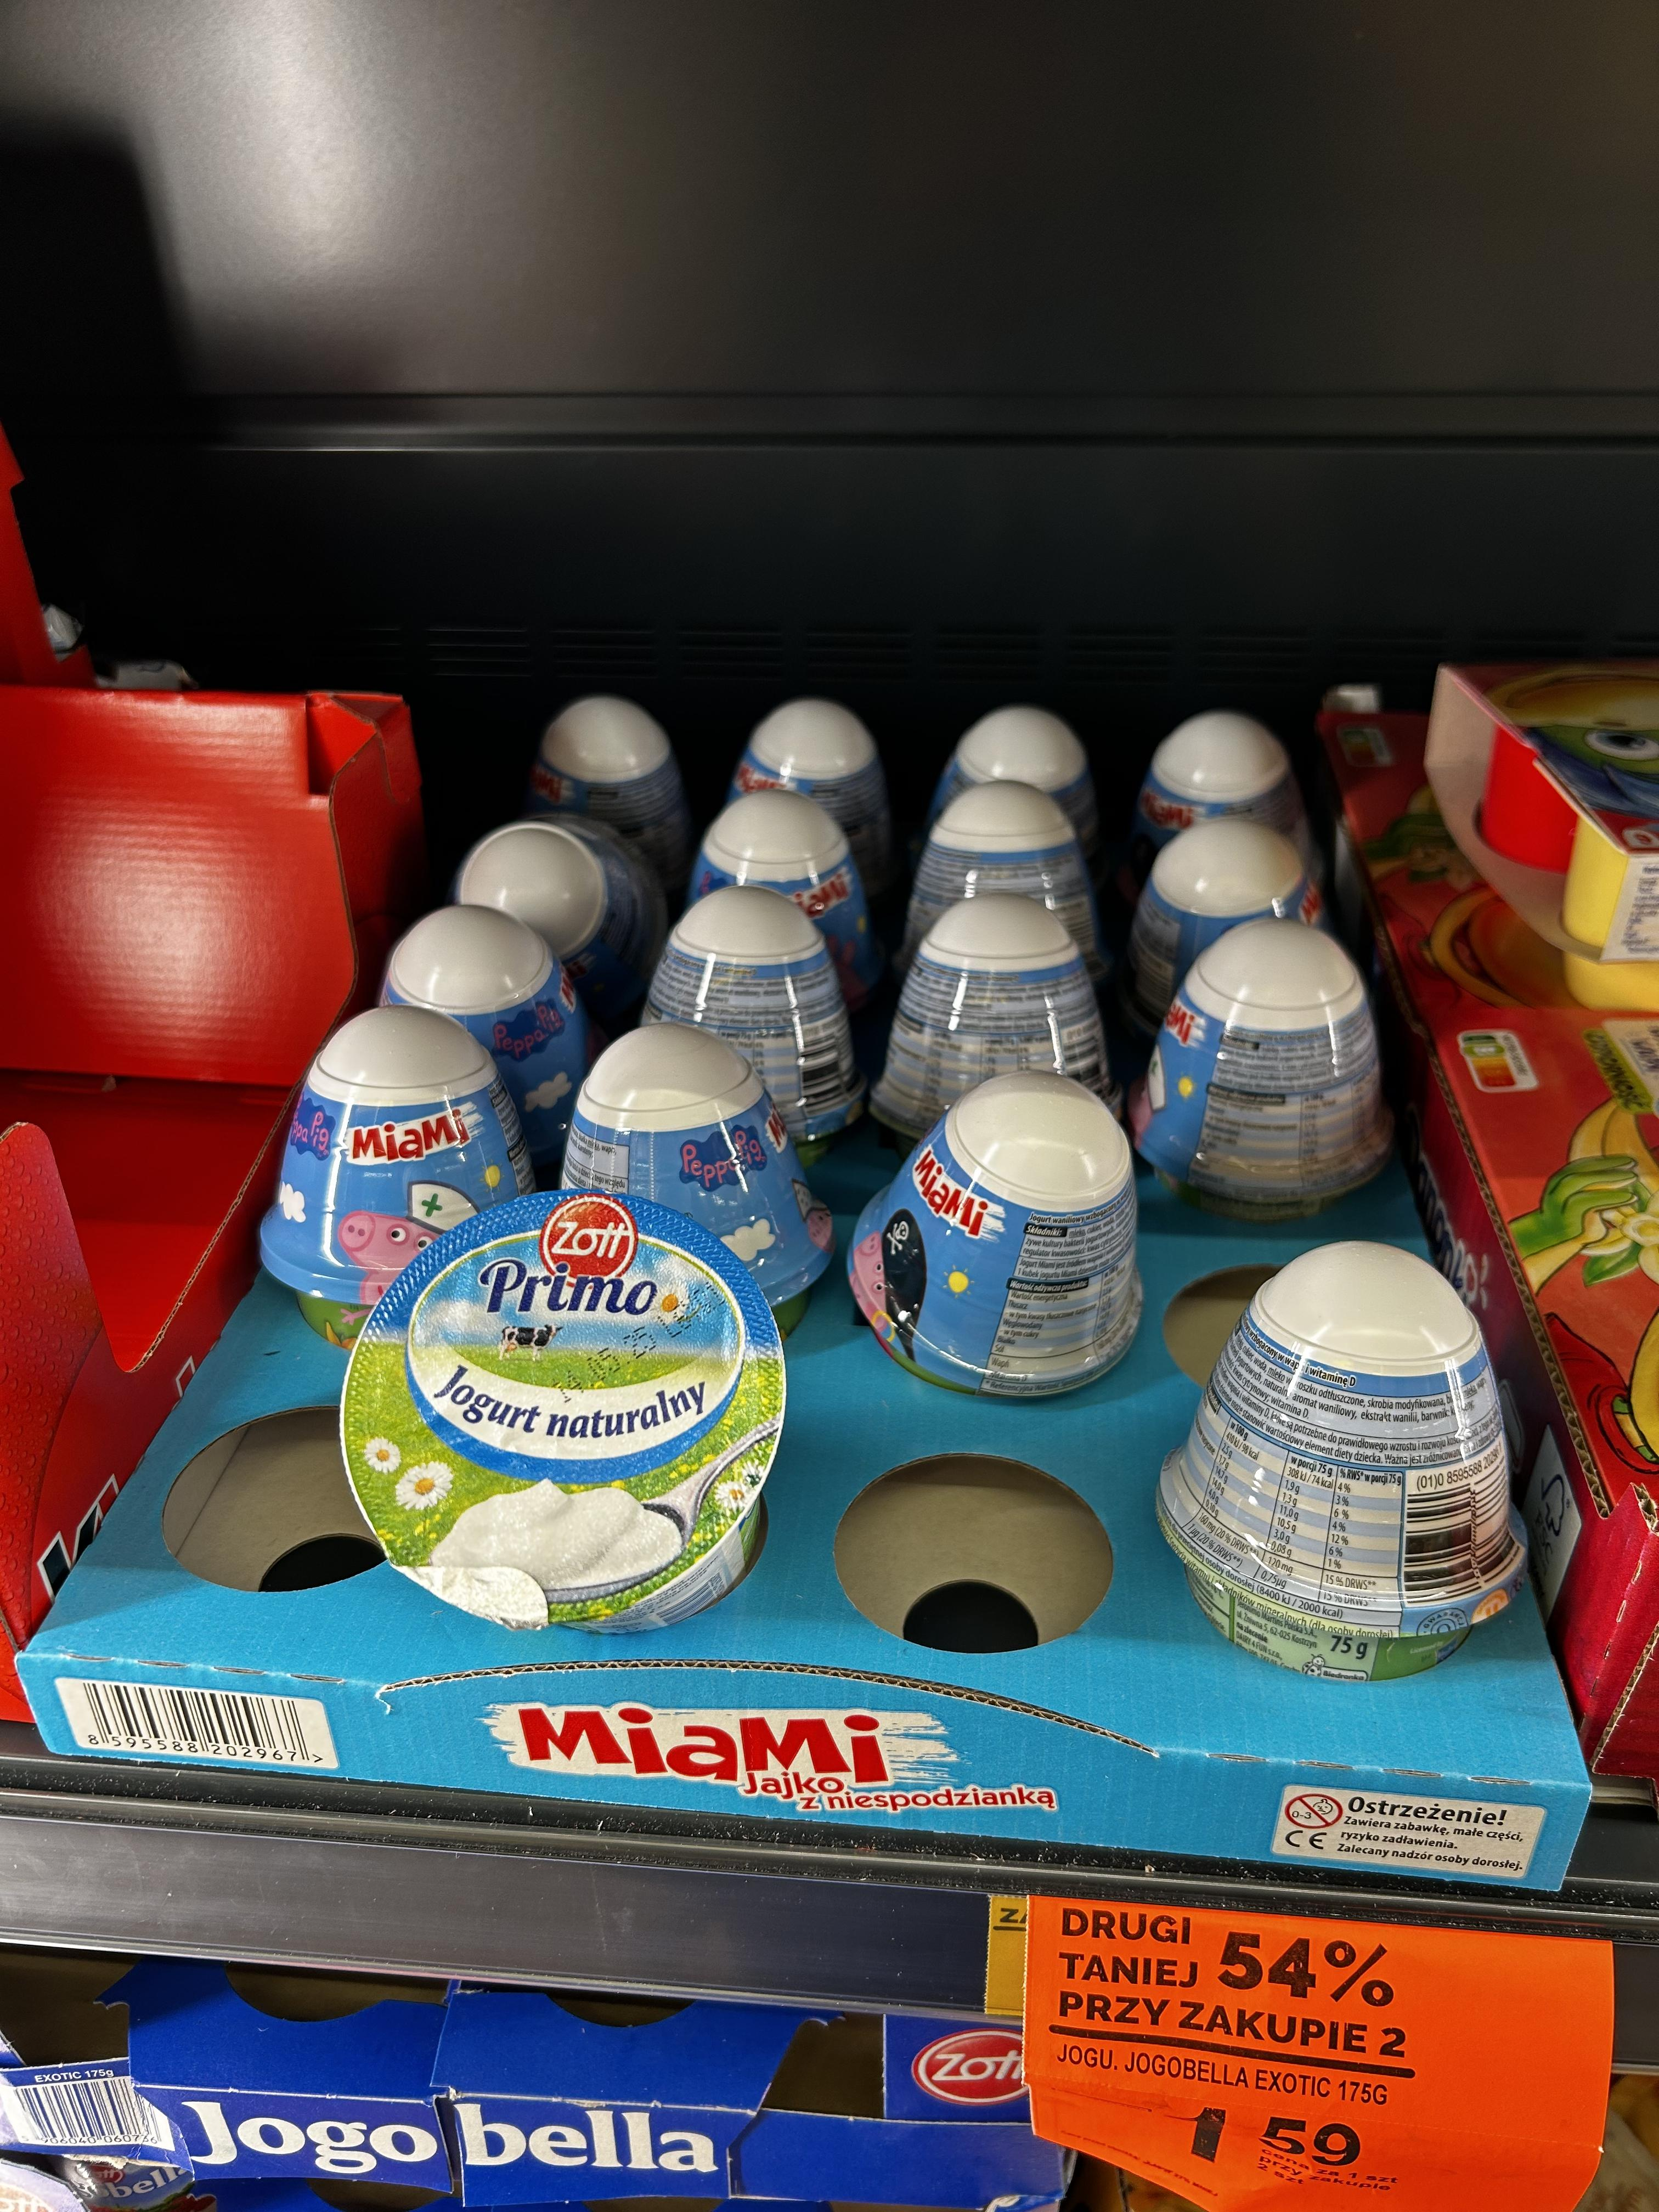Yogurt: (345, 1179, 782, 1658)
